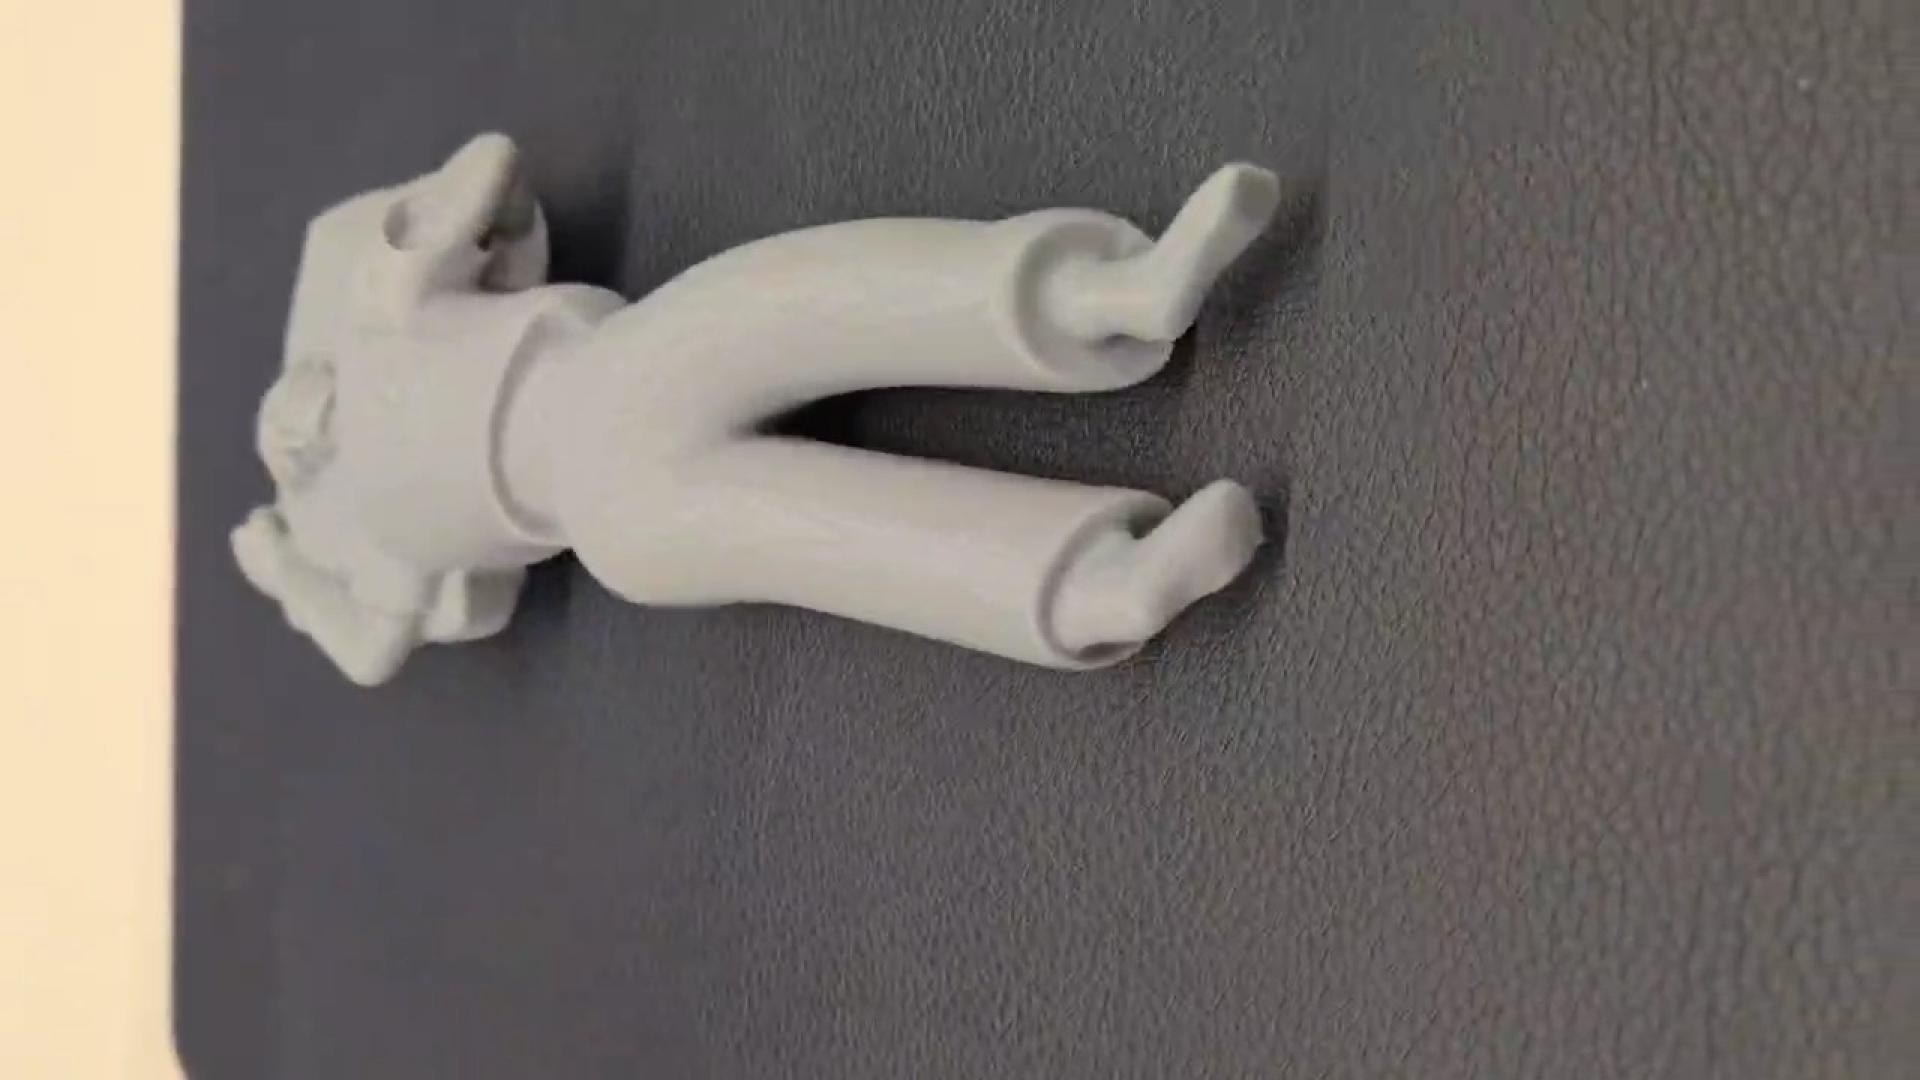Bad-style: (227, 127, 1298, 713)
